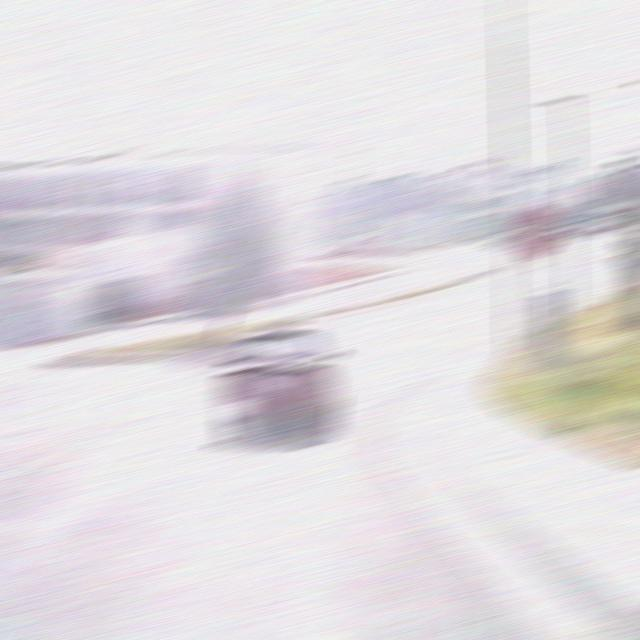stop_sign: (512, 206, 562, 258)
